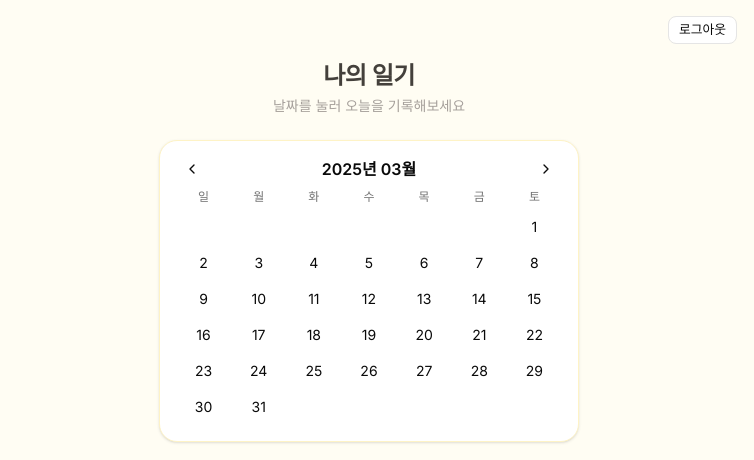
it: DIARY-006: 구글 캘린더에 일정이 없을 때 AI 추천 › 캘린더 일정이 없는 날의 AI 추천 시 일반 회고 안내 문구와 함께 초안이 표시된다
일기 작성 화면으로 이동
What coordinates should you click on to do the following:
click the button "19"
I would click on:
 (369, 335)
Its box is [353,319,385,351].
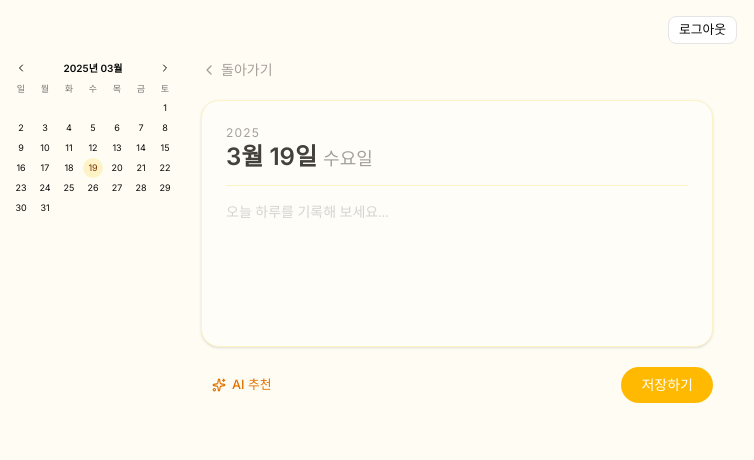
AI 추천 버튼 클릭
What coordinates should you click on to do the following:
click the button "AI 추천"
I would click on:
 (242, 385)
Its box is [201,371,282,399].
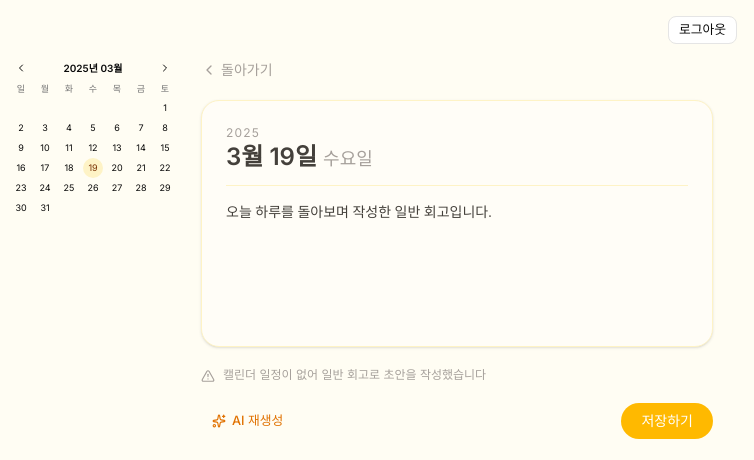
Check: the text box is enabled, box [226,202,688,322]
Check: the text "캘린더 일정이 없어 일반 회고로 초안을 작성했습니다" is shown, box [223,367,486,383]
Check: the text box is not empty, box [226,202,688,322]
